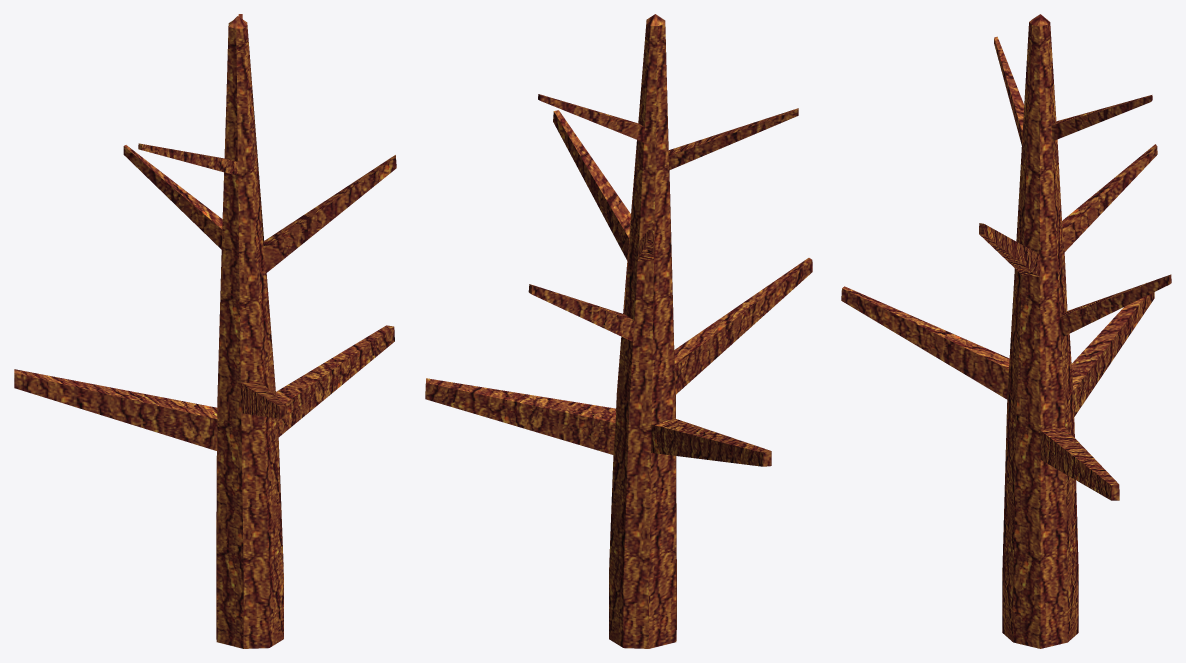
The model's file is tree4.fbx.
3 views of the same model, side by side, from view 1: azimuth 30°, elevation 25°; view 2: azimuth 150°, elevation 25°; view 3: azimuth 270°, elevation 25° (orthographic).
Parts seen in each view (by area): view 1: Cube; view 2: Cube; view 3: Cube.
Boxes of the visible parts, x1,y1,x2,y2 form: Cube: (14, 14, 396, 648); Cube: (425, 14, 812, 648); Cube: (841, 14, 1171, 648).
Size of the model in its own units: 867 by 1773 by 1084.
1 material, 1 textured.
